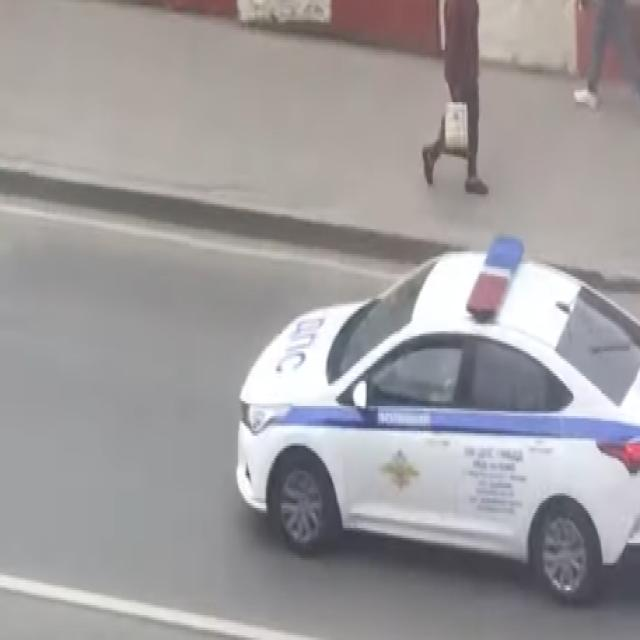police car: (234, 234, 639, 607)
